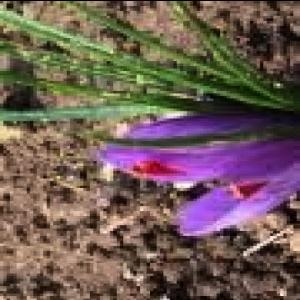Saffron: (109, 109, 300, 236)
